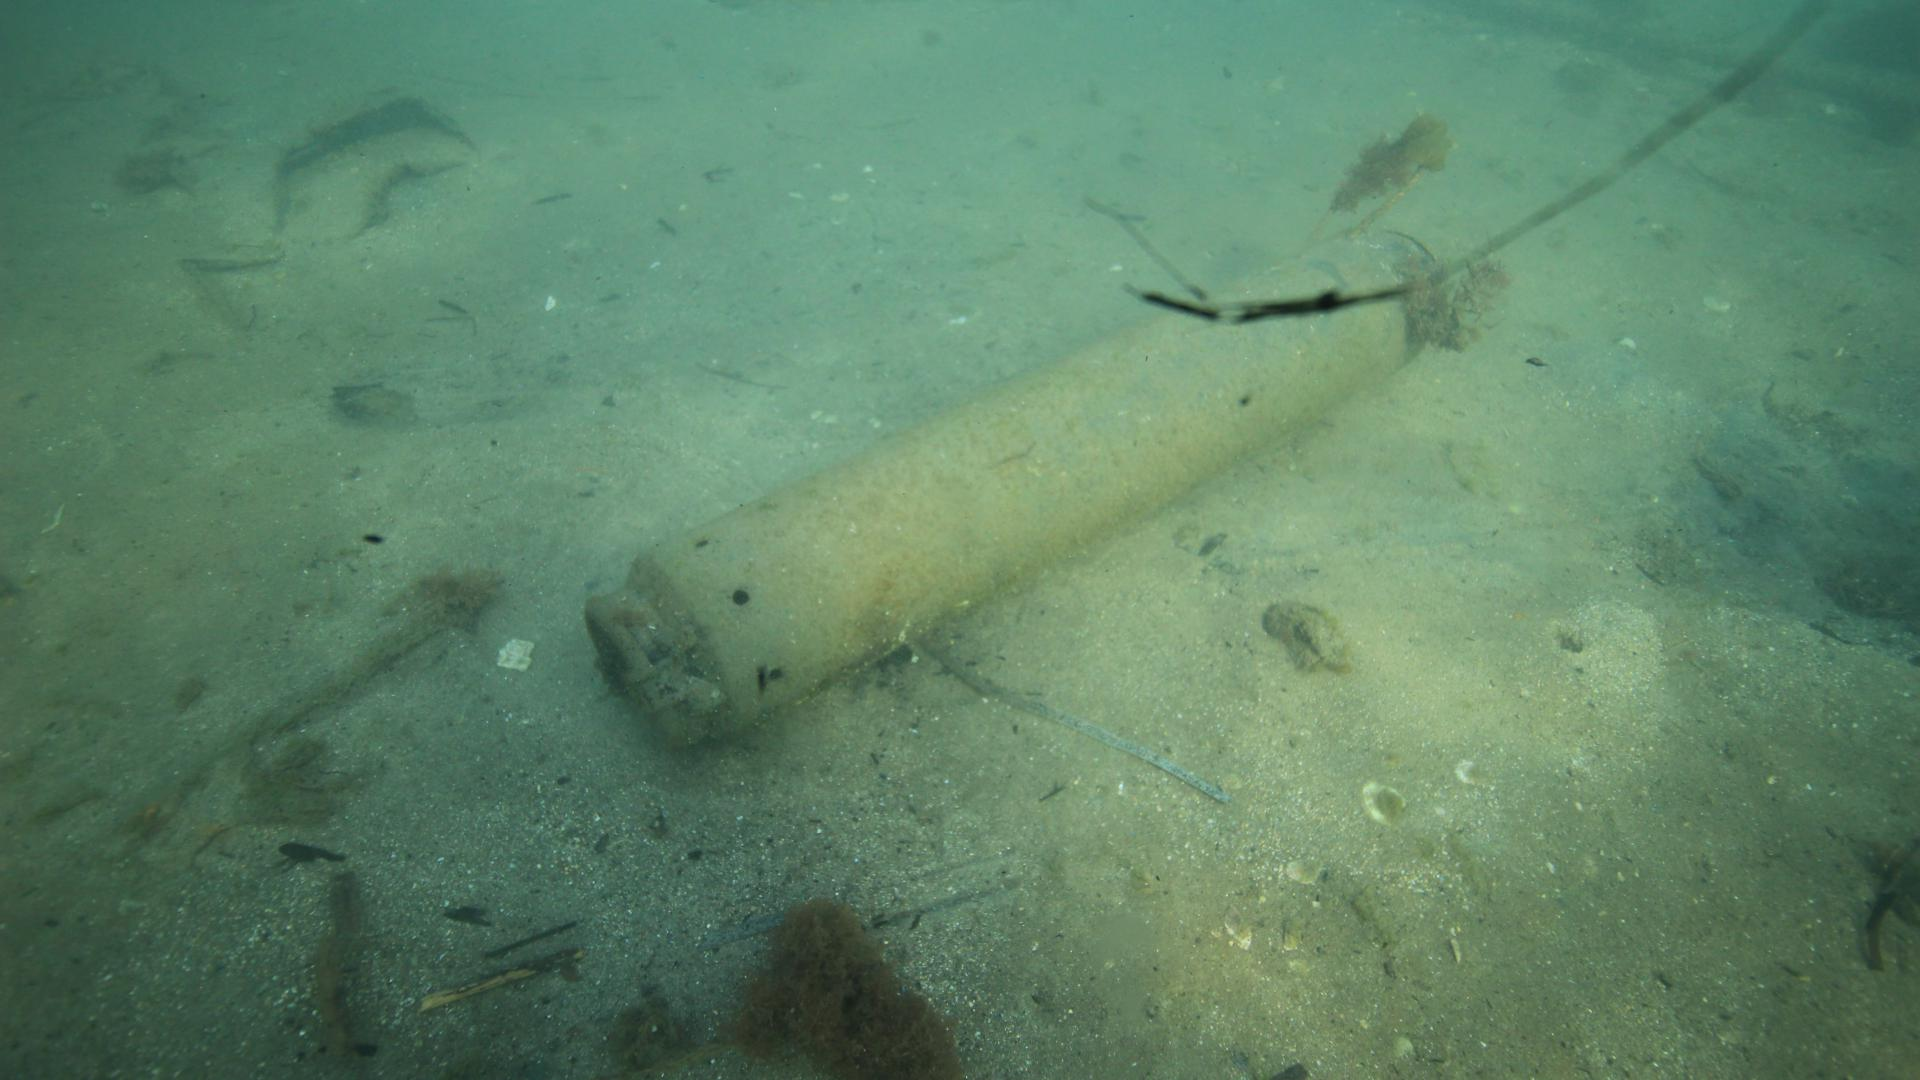eel fish trap: (583, 225, 1451, 742)
